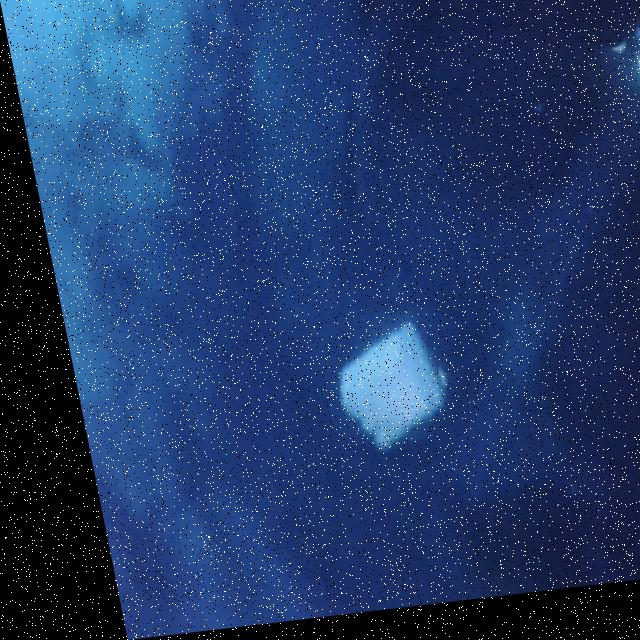litter: (294, 289, 472, 482)
